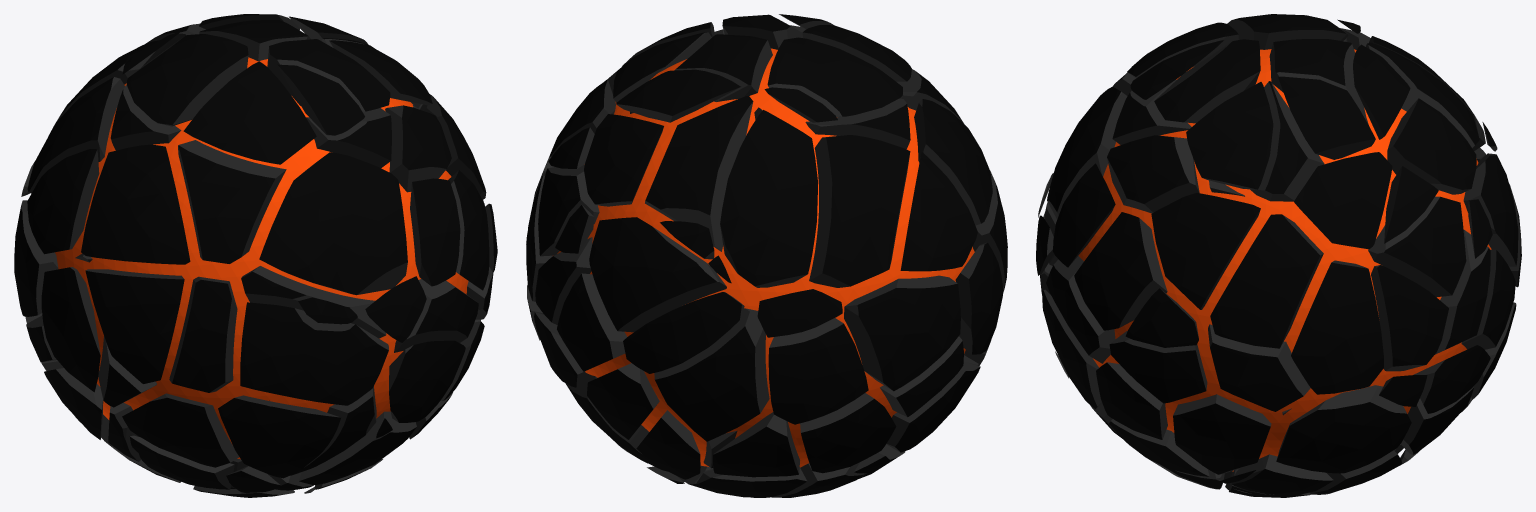
Rendered from lavafix.fbx.
3 renders of one model, left to right at view 1: azimuth 30°, elevation 25°; view 2: azimuth 150°, elevation 25°; view 3: azimuth 270°, elevation 25°, orthographic.
Parts seen in each view (by area): view 1: Lava; view 2: Lava; view 3: Lava.
Boxes of the visible parts, left/top/right/bottom form: Lava: left=14, top=14, right=497, bottom=497; Lava: left=526, top=14, right=1007, bottom=497; Lava: left=1036, top=14, right=1521, bottom=497.
Bounding box in the file's own units: 9.88 × 9.89 × 9.92.
